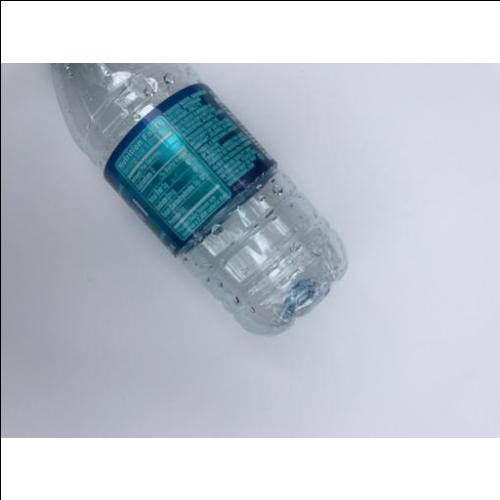plastic: (50, 62, 348, 335)
